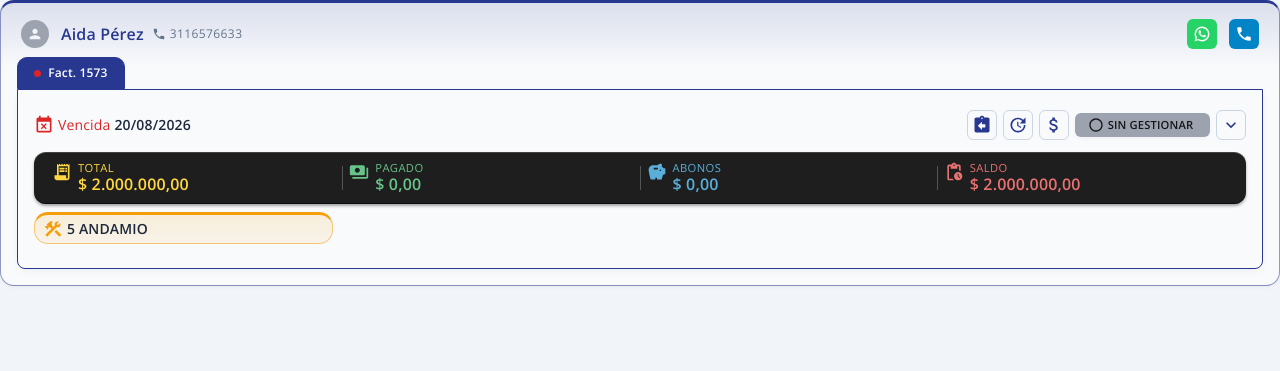
Test: ClienteSeguimientoCard — lo que muestra › al que vence hoy no le inventa dias vencidos
What coordinates should you click on to do the following:
click the button named "Mostrar factura"
I would click on:
 (1231, 125)
Its box is [1216,110,1246,140].
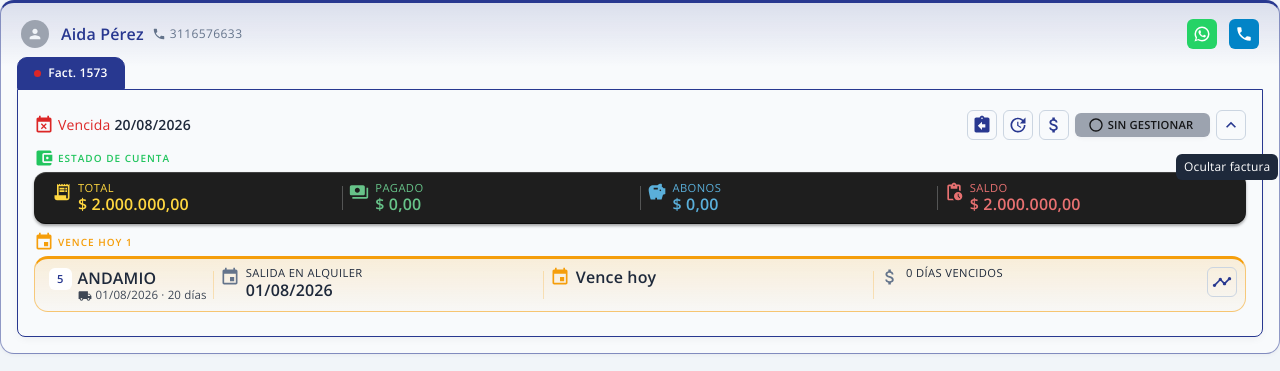
Expected: the text "0 días vencidos" is shown, [906,267,1003,280]
